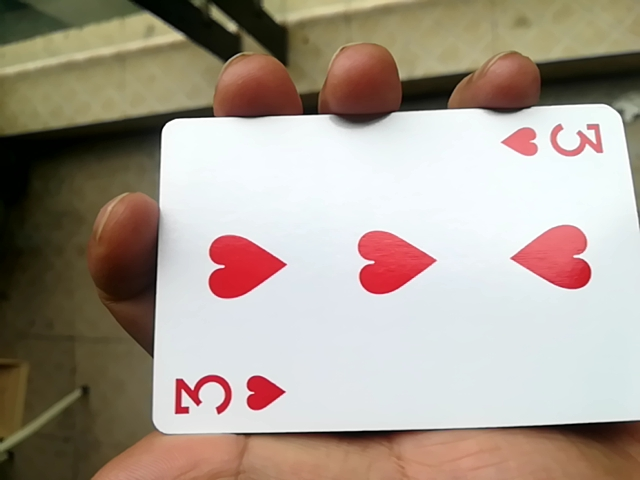hx 3: (137, 113, 637, 452)
